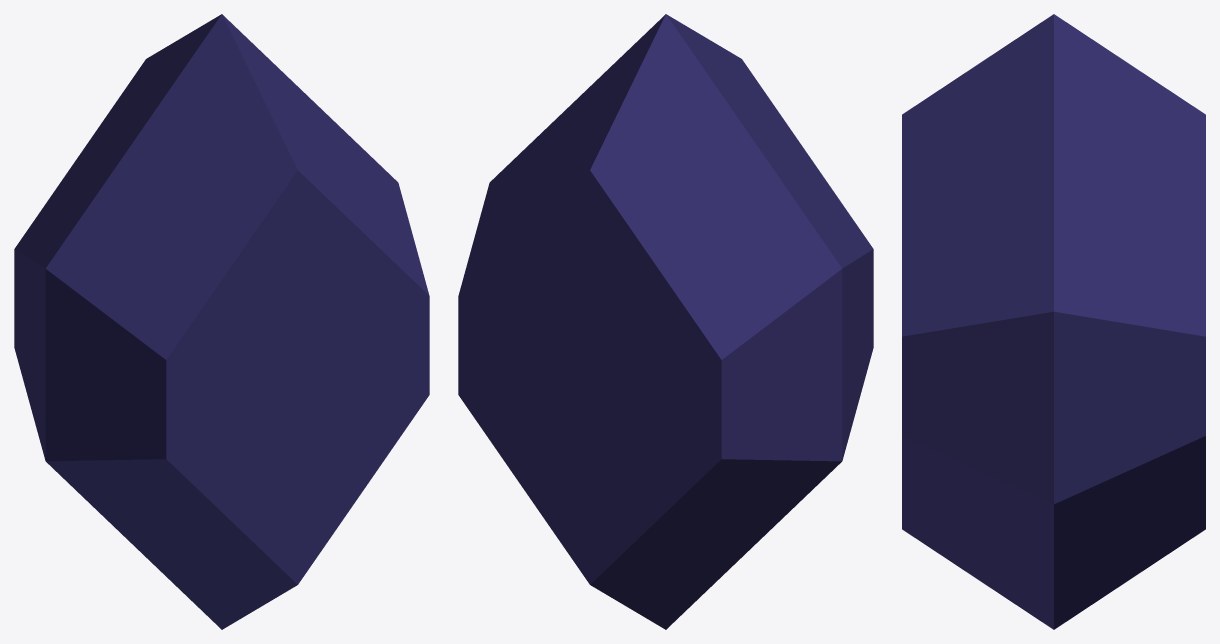
The model's file is Crystal.fbx.
The picture shows the model from 3 angles, left to right: view 1: azimuth 30°, elevation 25°; view 2: azimuth 150°, elevation 25°; view 3: azimuth 270°, elevation 25°; orthographic projection.
Visible parts, largest first — view 1: Cube; view 2: Cube; view 3: Cube.
Boxes of the visible parts, x1,y1,x2,y2 form: Cube: (14, 14, 429, 629); Cube: (458, 14, 873, 629); Cube: (902, 14, 1205, 629).
Bounding box in the file's own units: 317 × 529 × 236.
1 material, 1 textured.
